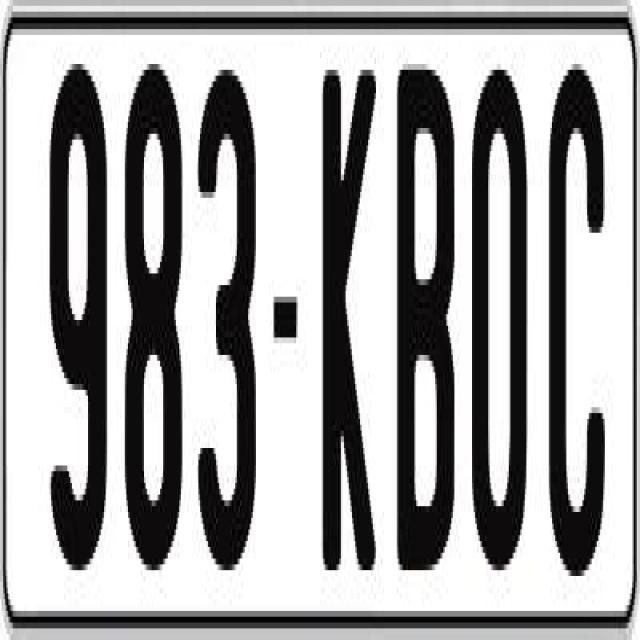0: (468, 70, 524, 576)
3: (197, 52, 261, 570)
8: (122, 58, 188, 599)
9: (46, 46, 114, 588)
B: (392, 52, 458, 558)
C: (549, 70, 608, 606)
K: (318, 70, 379, 582)
